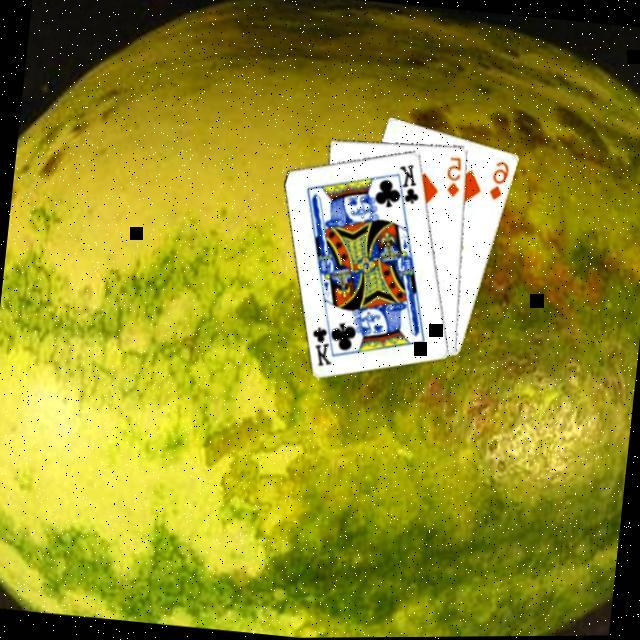5D: (440, 156, 464, 202)
6D: (484, 158, 512, 206)
KC: (388, 162, 424, 216), (304, 318, 340, 372)
